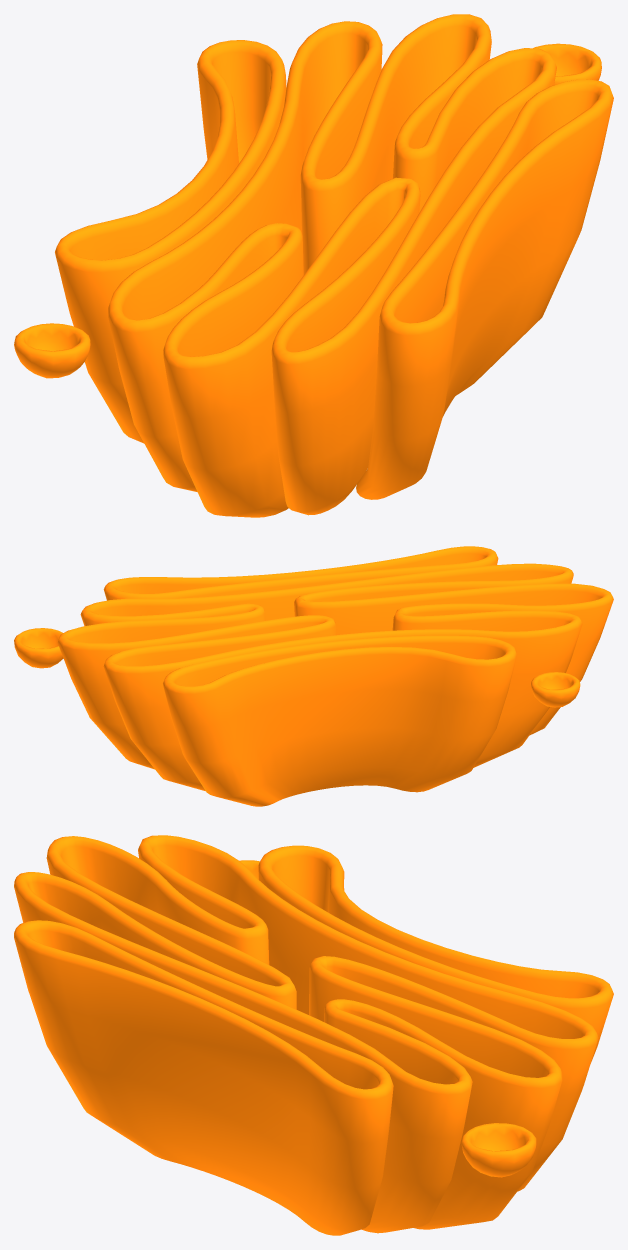
File: golgiComplex_selected.glb
The picture shows the model from 3 angles, top to bottom: view 1: azimuth 30°, elevation 25°; view 2: azimuth 150°, elevation 25°; view 3: azimuth 270°, elevation 25°; orthographic projection. The views are drawn at different scales.
Visible parts, largest first — view 1: Golgi Complex.001; view 2: Golgi Complex.001; view 3: Golgi Complex.001.
Part boxes in pixels (x1,y1,x2,y2): Golgi Complex.001: (14,14,613,517); Golgi Complex.001: (14,546,613,806); Golgi Complex.001: (14,835,613,1235).
Bounding box in the file's own units: 2.32 × 0.7305 × 1.92.
